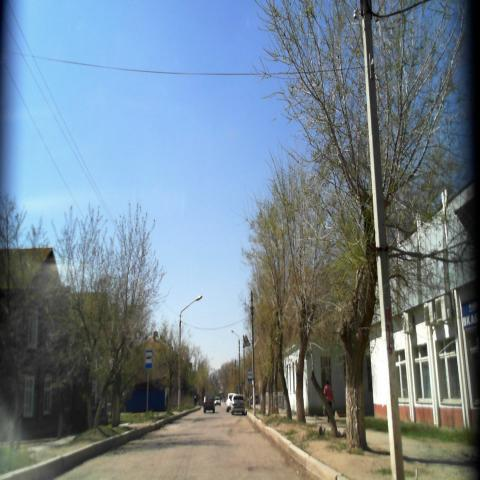5_16: (145, 349, 153, 370)
